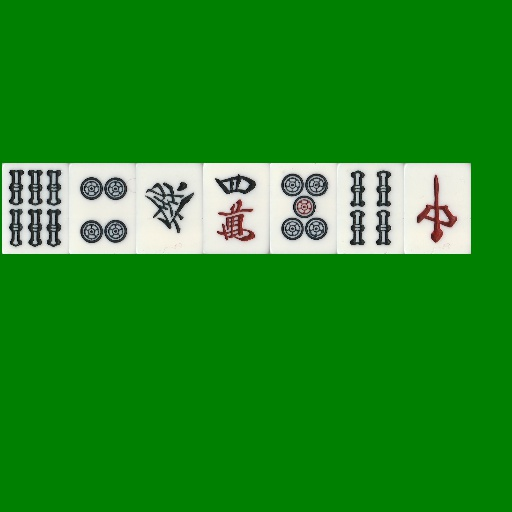4m: (203, 163, 270, 254)
4p: (69, 163, 136, 254)
4s: (337, 163, 404, 254)
5p: (270, 163, 337, 254)
6s: (2, 163, 69, 254)
hatsu: (136, 163, 203, 254)
tyun: (404, 163, 471, 254)
